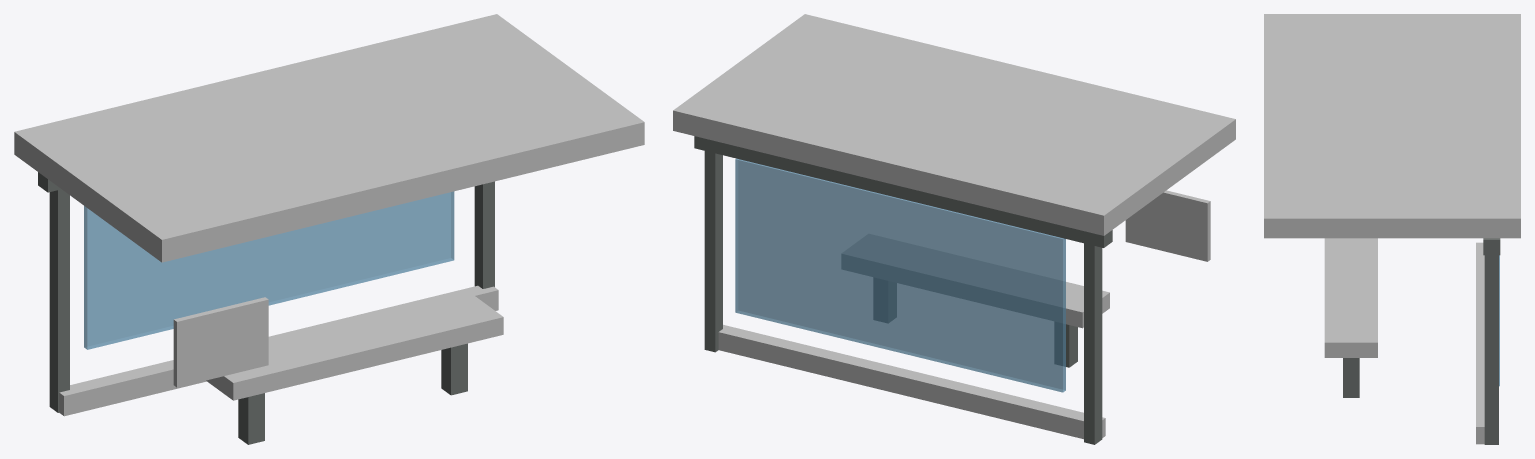
Rendered from bus_stop_shelter.obj.
3 renders of one model, left to right at view 1: azimuth 30°, elevation 25°; view 2: azimuth 150°, elevation 25°; view 3: azimuth 270°, elevation 25°, orthographic. The views are drawn at different scales.
Visible parts, largest first — view 1: bus_stop_shelter; view 2: bus_stop_shelter; view 3: bus_stop_shelter.
Boxes of the visible parts, x1=… form: bus_stop_shelter: x1=14, y1=14, x2=644, y2=444; bus_stop_shelter: x1=673, y1=14, x2=1235, y2=444; bus_stop_shelter: x1=1264, y1=14, x2=1520, y2=444.
Bounding box in the file's own units: 10 × 5.38 × 5.3.
